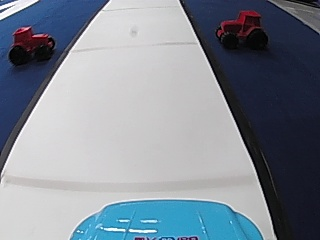tractor: (212, 8, 268, 51), (8, 23, 54, 64)
